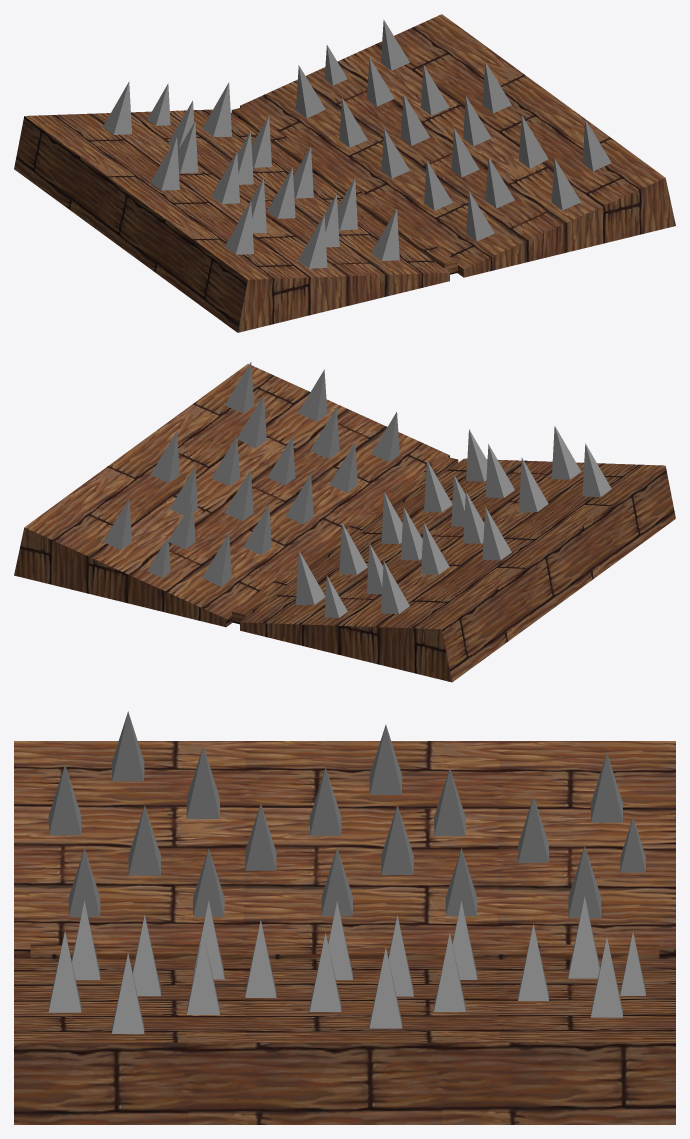
The model's file is Trampa_FBX.FBX.
3 views of the same model, one above another, from view 1: azimuth 30°, elevation 25°; view 2: azimuth 150°, elevation 25°; view 3: azimuth 270°, elevation 25° (orthographic). The views are drawn at different scales.
Parts seen in each view (by area): view 1: Right, Left, Center; view 2: Right, Left, Center; view 3: Left, Right, Center.
Boxes of the visible parts, x1=… form: Right: x1=240, y1=14, x2=675, y2=277; Left: x1=14, y1=81, x2=449, y2=332; Center: x1=231, y1=106, x2=457, y2=274; Right: x1=14, y1=362, x2=449, y2=627; Left: x1=240, y1=426, x2=675, y2=682; Center: x1=232, y1=456, x2=458, y2=624; Left: x1=14, y1=711, x2=675, y2=959; Right: x1=14, y1=896, x2=675, y2=1124; Center: x1=30, y1=944, x2=659, y2=959.
Bounding box in the file's own units: 2.58 × 0.5131 × 2.28.
Materials: 1 (1 with a texture image).
